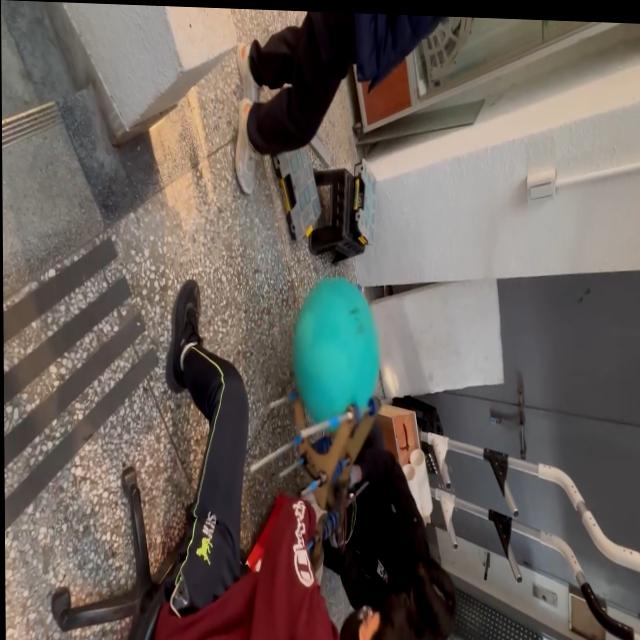ALGAE: (289, 273, 380, 434)
